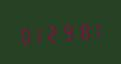eight: (74, 19, 87, 42)
nine: (60, 20, 73, 43)
one: (31, 22, 44, 45), (88, 18, 101, 41)
two: (46, 21, 59, 44)
zero: (17, 23, 30, 46)
